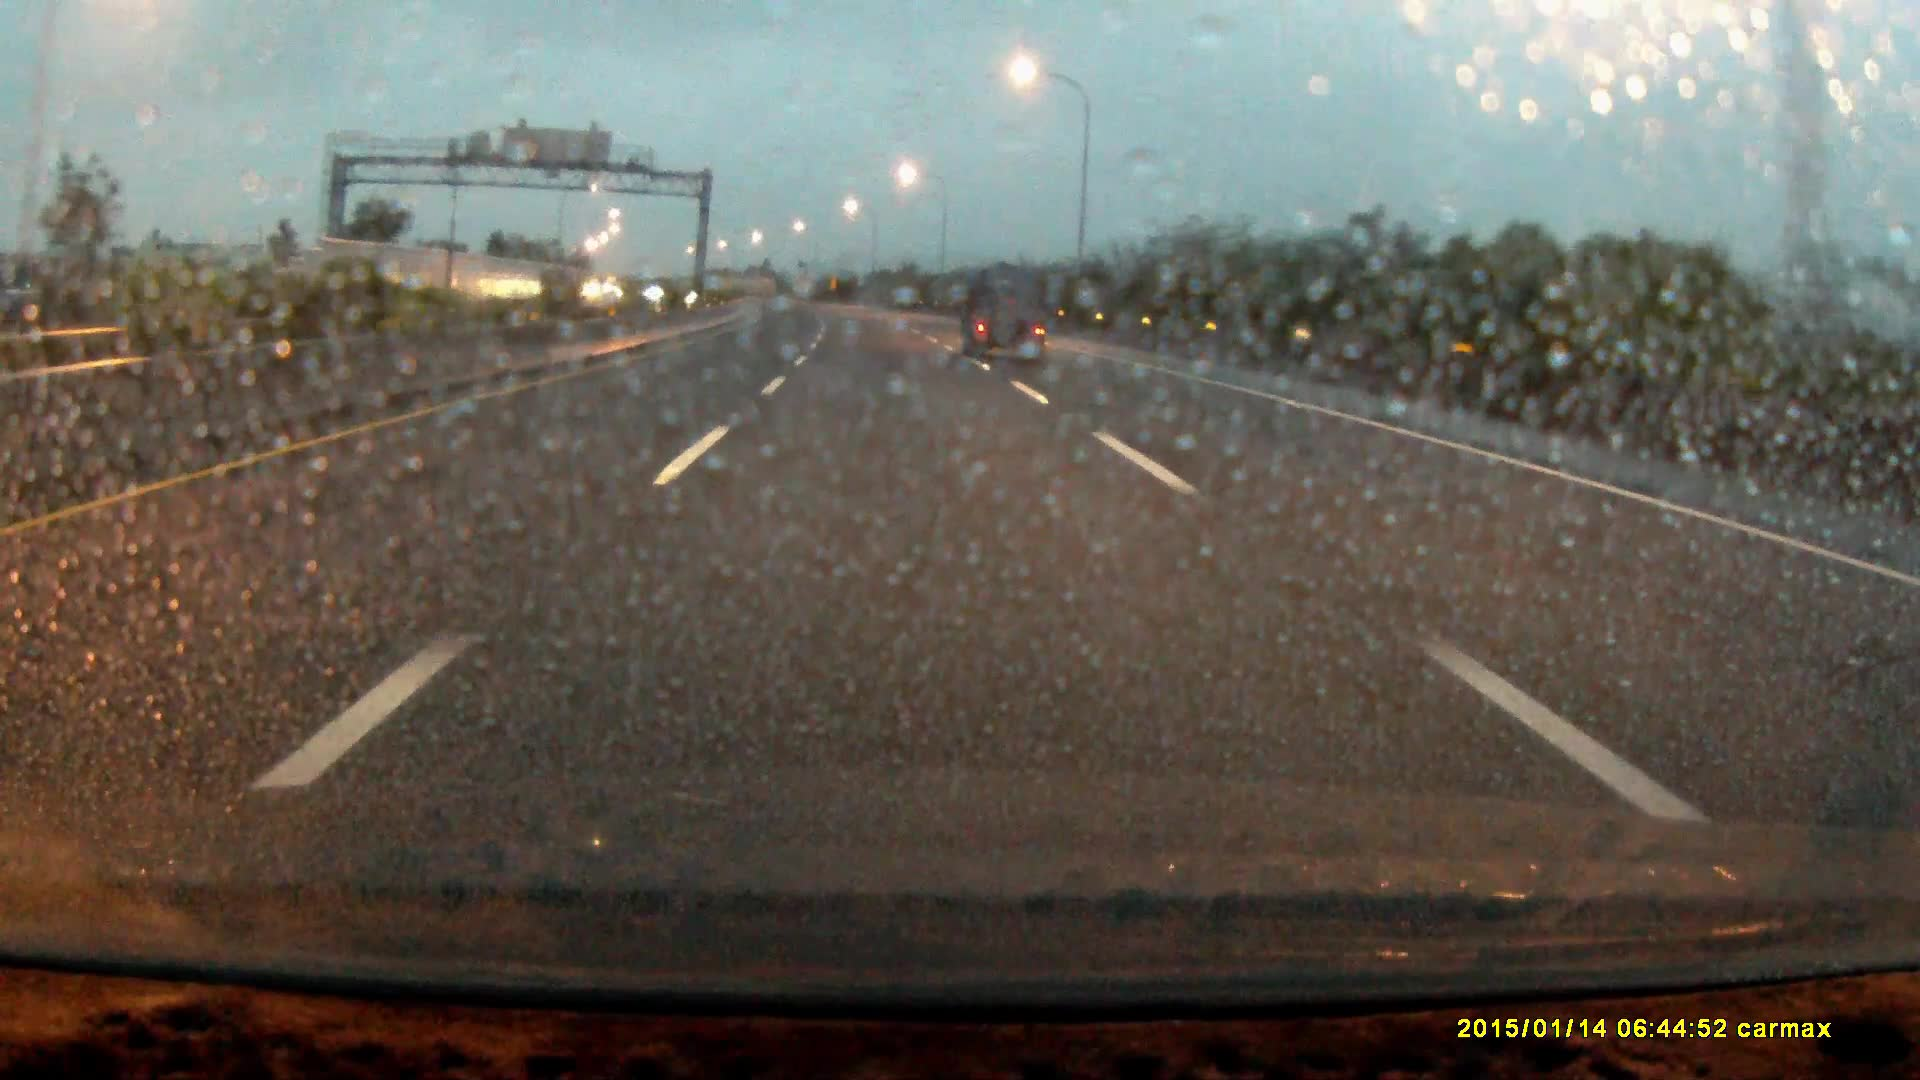vehicle: (967, 273, 1054, 363), (535, 269, 591, 310)
